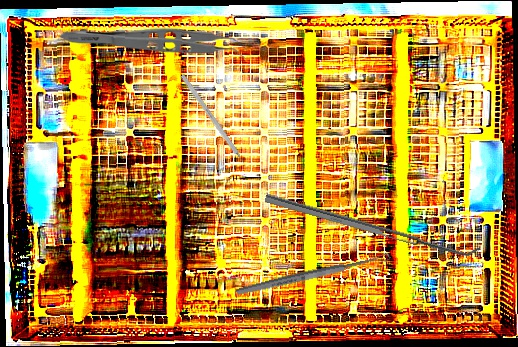Hook Surgical: (180, 73, 252, 174)
Spatula Surgical: (264, 185, 481, 263)
Surgical Spoon: (234, 251, 392, 298)
Tissue Forceps: (59, 26, 248, 62)
